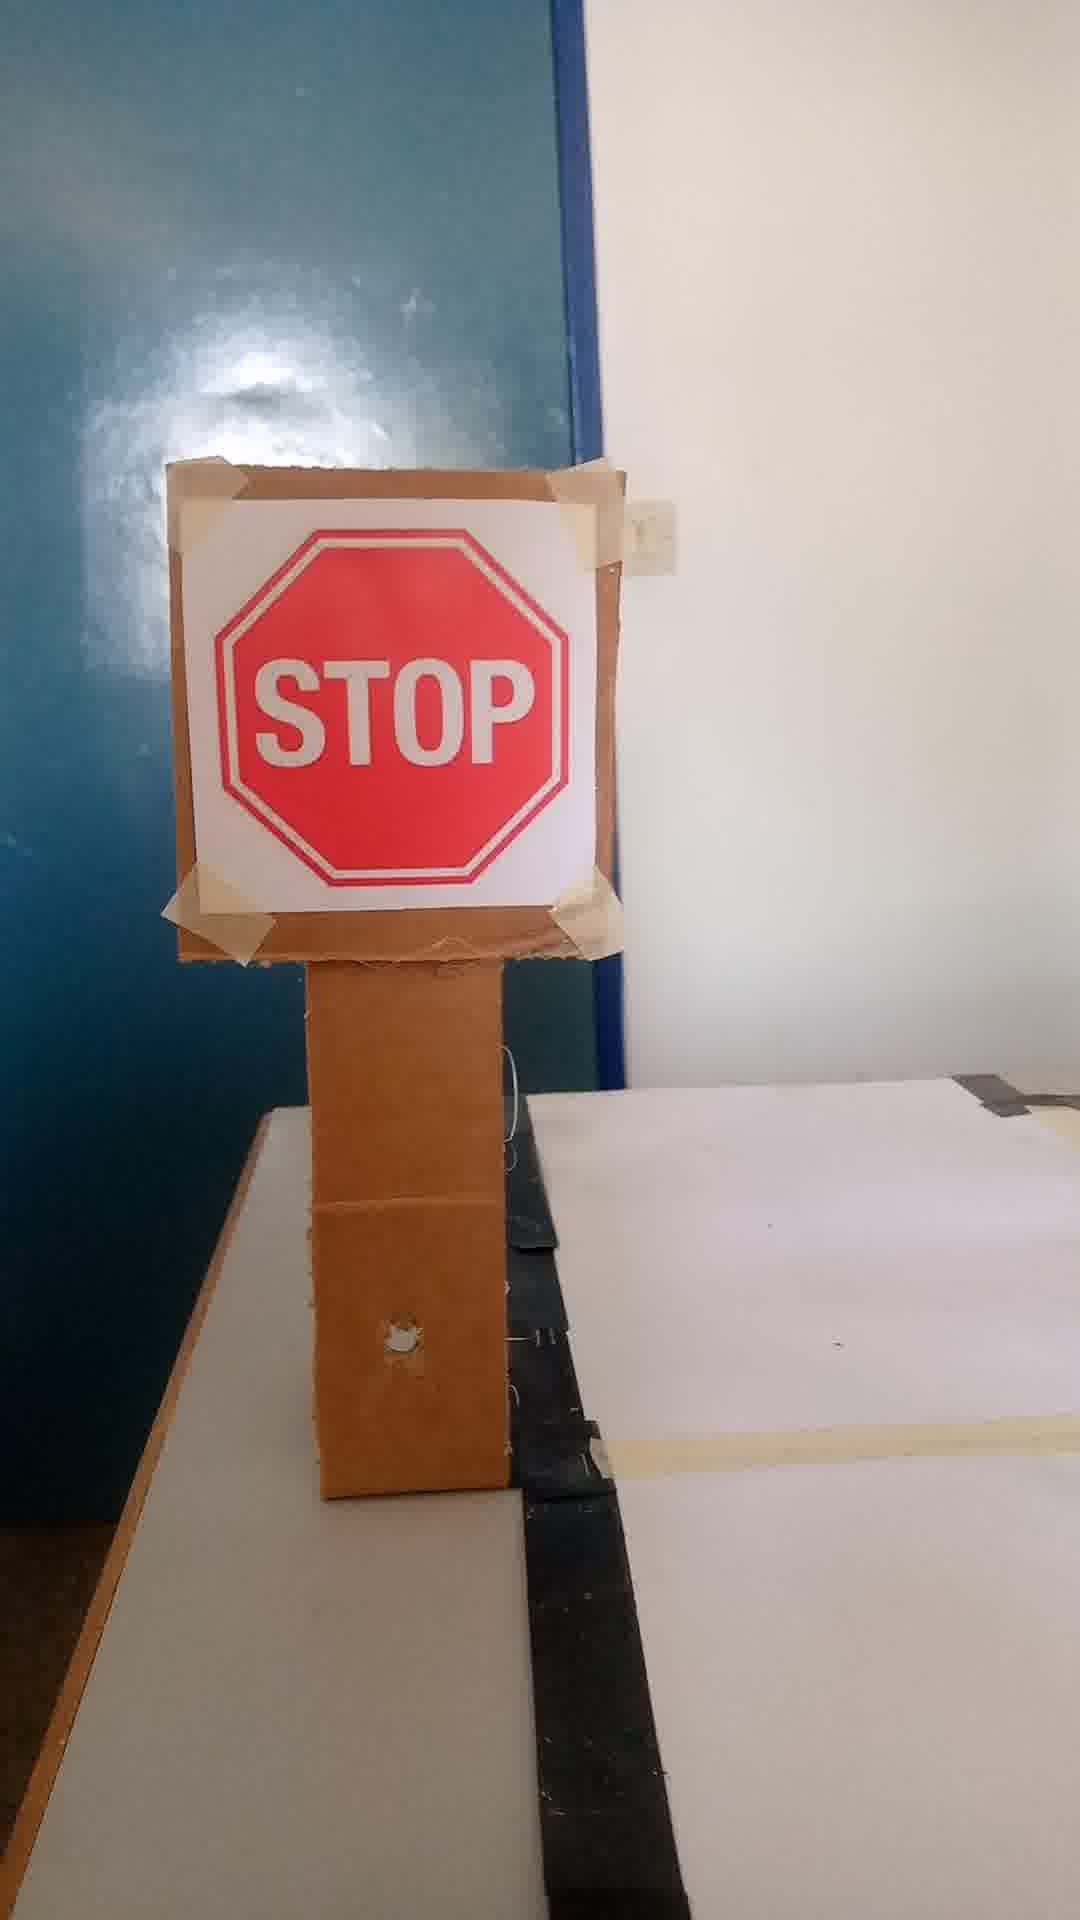panel101: (158, 487, 613, 943)
